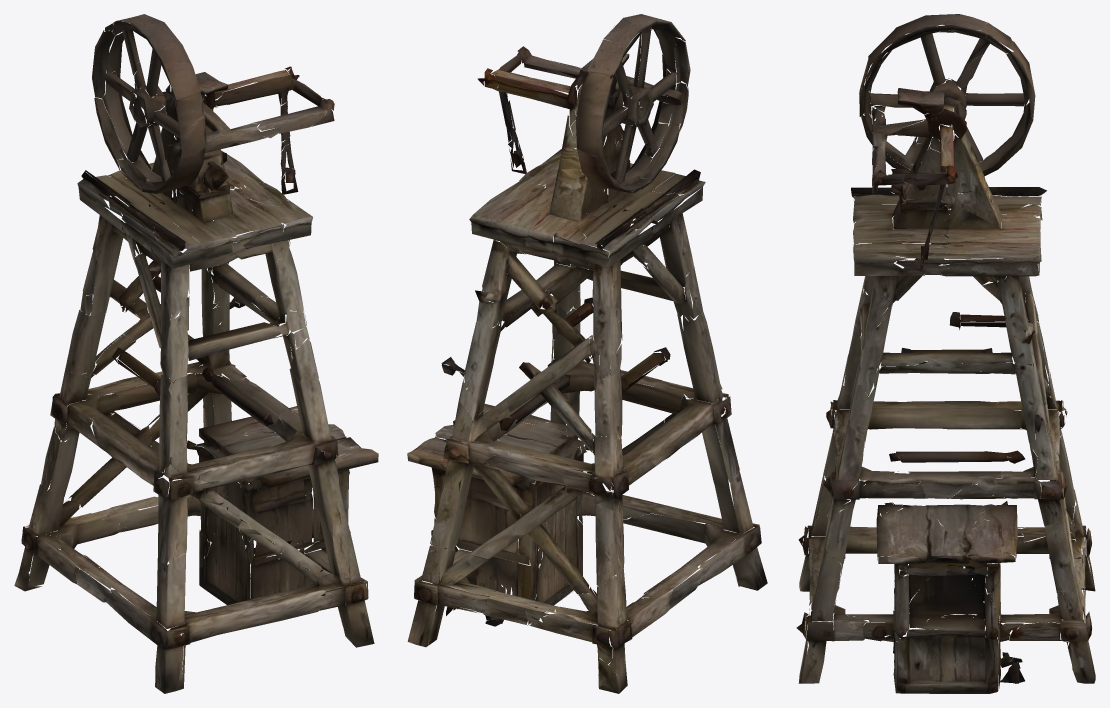
Rendered from headframe.glb.
3 renders of one model, left to right at view 1: azimuth 30°, elevation 25°; view 2: azimuth 150°, elevation 25°; view 3: azimuth 270°, elevation 25°, orthographic.
Parts seen in each view (by area): view 1: tripo_node_84646403-63e0-4f53-8395-492b1968f764; view 2: tripo_node_84646403-63e0-4f53-8395-492b1968f764; view 3: tripo_node_84646403-63e0-4f53-8395-492b1968f764.
Boxes of the visible parts, left/top/right/bottom form: tripo_node_84646403-63e0-4f53-8395-492b1968f764: left=14, top=14, right=378, bottom=693; tripo_node_84646403-63e0-4f53-8395-492b1968f764: left=407, top=14, right=767, bottom=693; tripo_node_84646403-63e0-4f53-8395-492b1968f764: left=796, top=14, right=1095, bottom=693.
Bounding box in the file's own units: 0.4423 × 1 × 0.4578.
Materials: 1 (1 with a texture image).
